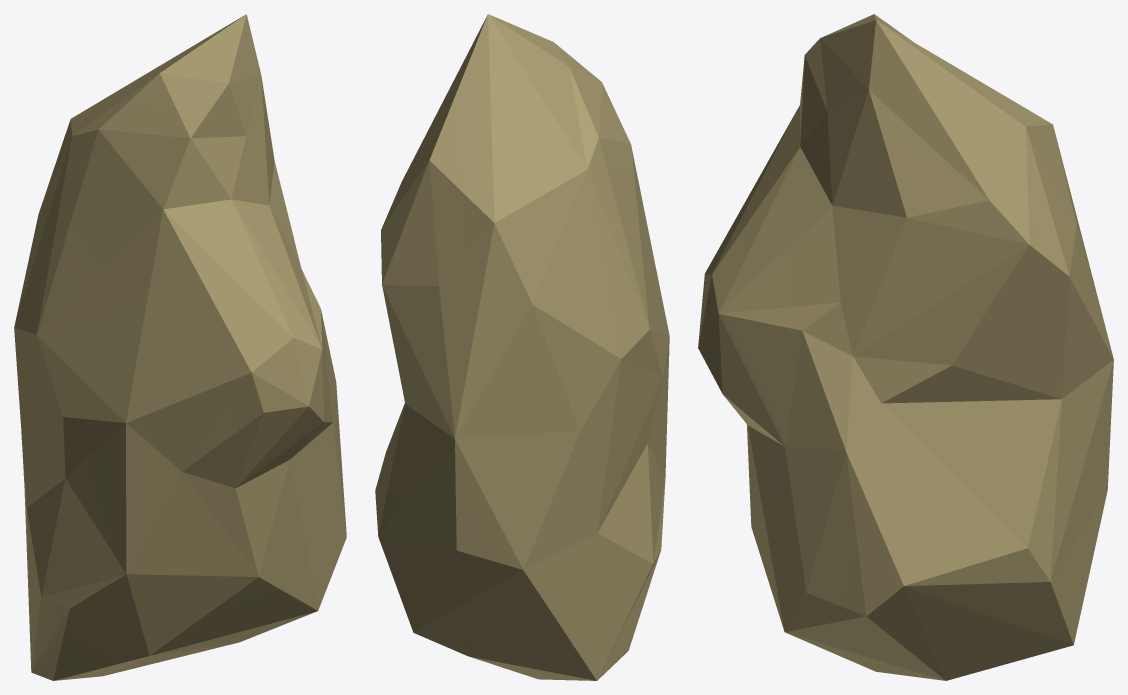
The model's file is SM_small_rock_49.fbx.
3 views of the same model, side by side, from view 1: azimuth 30°, elevation 25°; view 2: azimuth 150°, elevation 25°; view 3: azimuth 270°, elevation 25° (orthographic). The views are drawn at different scales.
Visible parts, largest first — view 1: small_rock_49; view 2: small_rock_49; view 3: small_rock_49.
Boxes of the visible parts, x1=… form: small_rock_49: x1=14, y1=14, x2=346, y2=680; small_rock_49: x1=375, y1=14, x2=669, y2=680; small_rock_49: x1=698, y1=14, x2=1113, y2=680.
Bounding box in the file's own units: 87.44 × 192 × 103.
